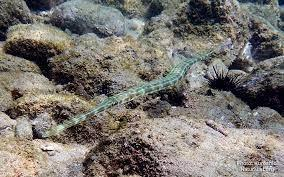Fistularia commersonii: (25, 36, 226, 142)
